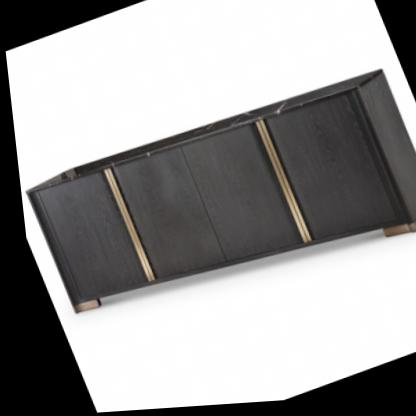Sideboard: (22, 75, 416, 315)
